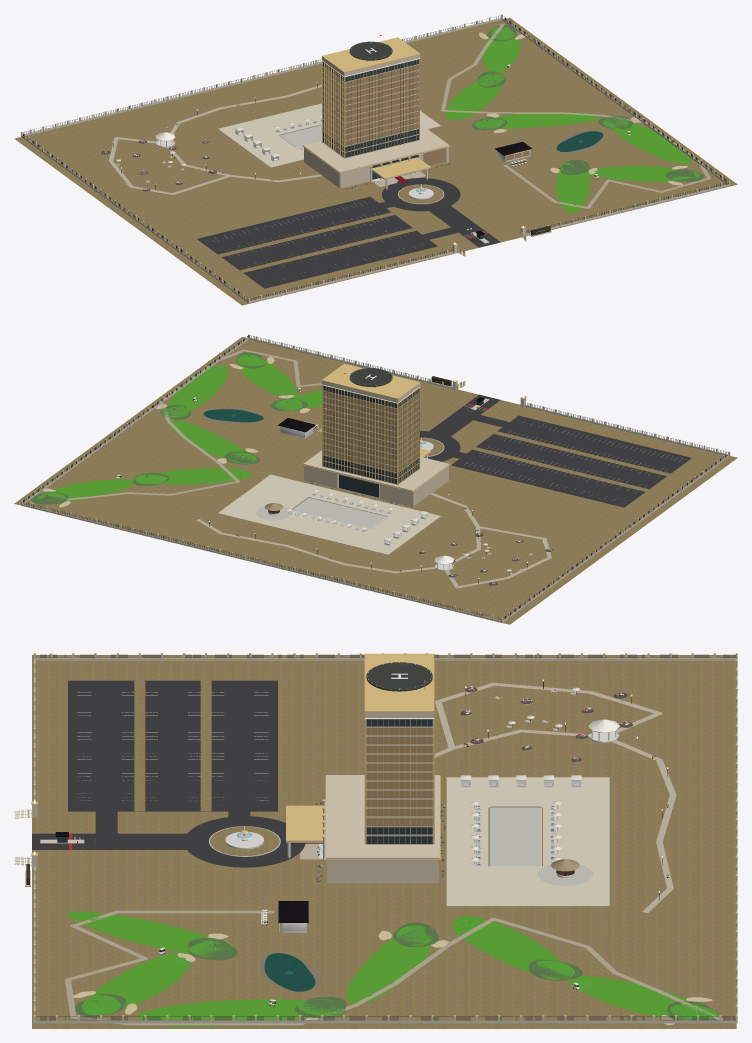
File: set_gra_hotel.glb
3 views of the same model, one above another, from view 1: azimuth 30°, elevation 25°; view 2: azimuth 150°, elevation 25°; view 3: azimuth 270°, elevation 25° (orthographic). The views are drawn at different scales.
Parts seen in each view (by area): view 1: GR_set_gra_hotel, GD_set_gra_hotel; view 2: GR_set_gra_hotel, GD_set_gra_hotel; view 3: GR_set_gra_hotel, GD_set_gra_hotel.
Part boxes in pixels (x1,y1,x2,y2): GR_set_gra_hotel: [14, 15, 737, 305]; GD_set_gra_hotel: [21, 14, 730, 298]; GR_set_gra_hotel: [14, 335, 737, 624]; GD_set_gra_hotel: [21, 334, 729, 618]; GR_set_gra_hotel: [14, 653, 737, 1028]; GD_set_gra_hotel: [31, 653, 737, 1018].
Bounding box in the file's own units: 320 × 79.66 × 262.
16 materials, 3 textured.
